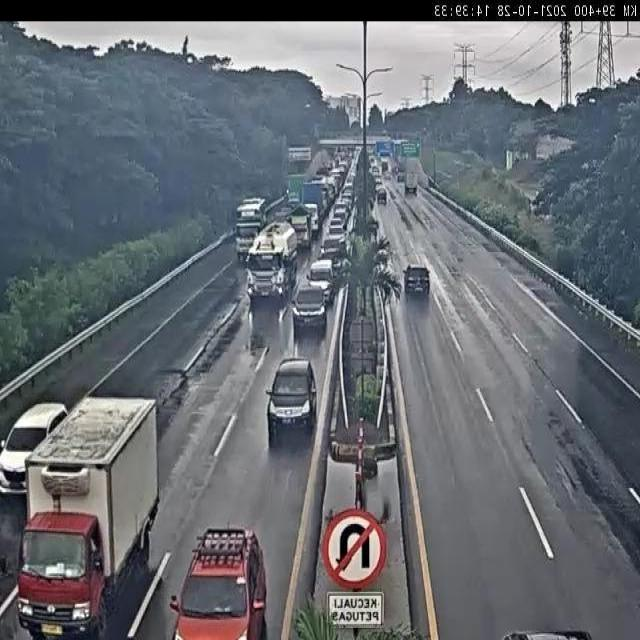Car: (167, 526, 267, 638), (0, 402, 68, 494), (266, 355, 319, 447), (290, 282, 327, 338), (307, 258, 338, 307), (403, 264, 430, 300), (327, 224, 347, 244), (328, 216, 345, 231), (378, 188, 388, 205), (374, 178, 383, 194)
Truck: (0, 392, 161, 639), (244, 219, 297, 301), (233, 215, 264, 261), (300, 180, 324, 234), (288, 204, 313, 251), (286, 172, 306, 209), (404, 170, 419, 196)
